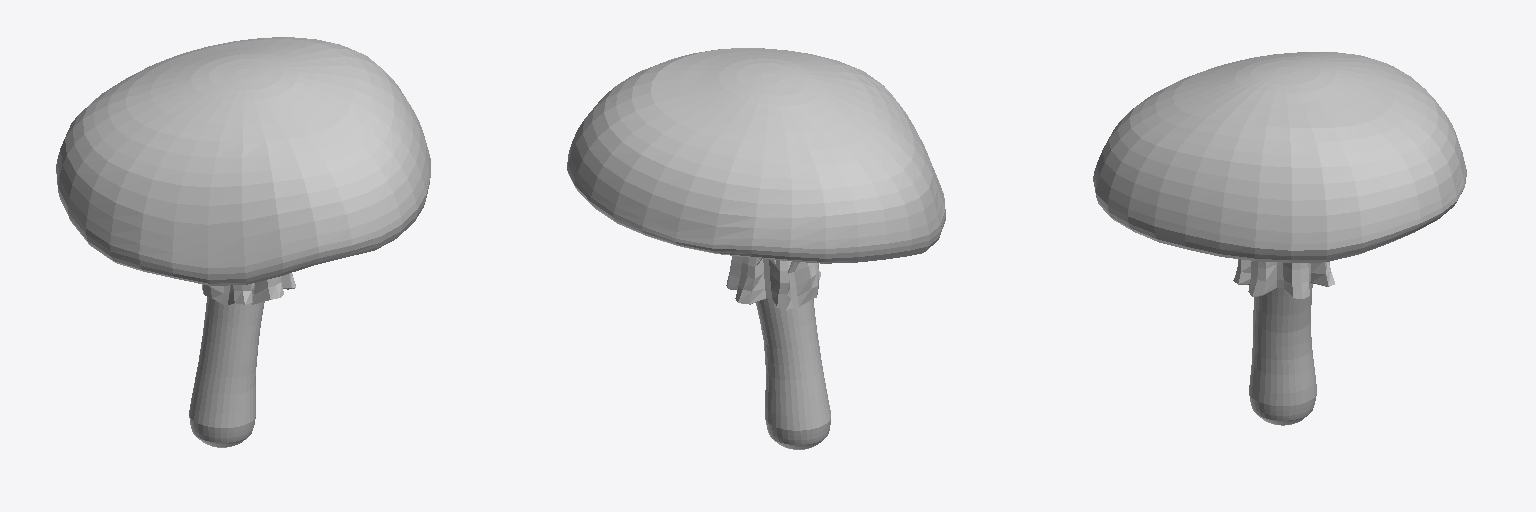
File: muxomor-krasnyj.obj
The picture shows the model from 3 angles: view 1: azimuth 30°, elevation 25°; view 2: azimuth 150°, elevation 25°; view 3: azimuth 270°, elevation 25°; orthographic projection.
Visible parts, largest first — view 1: Cylinder; view 2: Cylinder; view 3: Cylinder.
Boxes of the visible parts, <box> form: Cylinder: <box>56,37,430,447</box>; Cylinder: <box>567,48,945,449</box>; Cylinder: <box>1093,52,1466,425</box>.
Bounding box in the file's own units: 2.86 × 3.02 × 2.79.